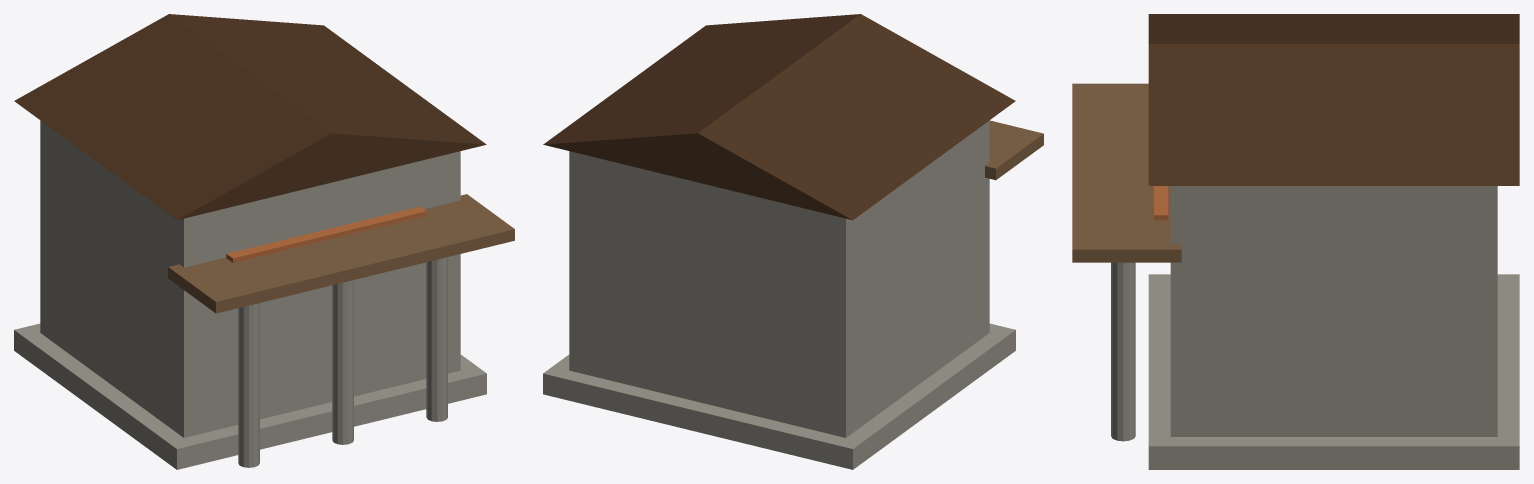
File: bld_commercial_a02.glb
3 views of the same model, side by side, from view 1: azimuth 30°, elevation 25°; view 2: azimuth 150°, elevation 25°; view 3: azimuth 270°, elevation 25° (orthographic). The views are drawn at different scales.
Parts seen in each view (by area): view 1: body; view 2: body; view 3: body.
Part boxes in pixels (x1,y1,x2,y2): body: (14, 14, 514, 469); body: (543, 14, 1043, 469); body: (1072, 14, 1519, 469).
Size of what is drawn, in the model's own units: 5.6 by 5.16 by 6.15.
